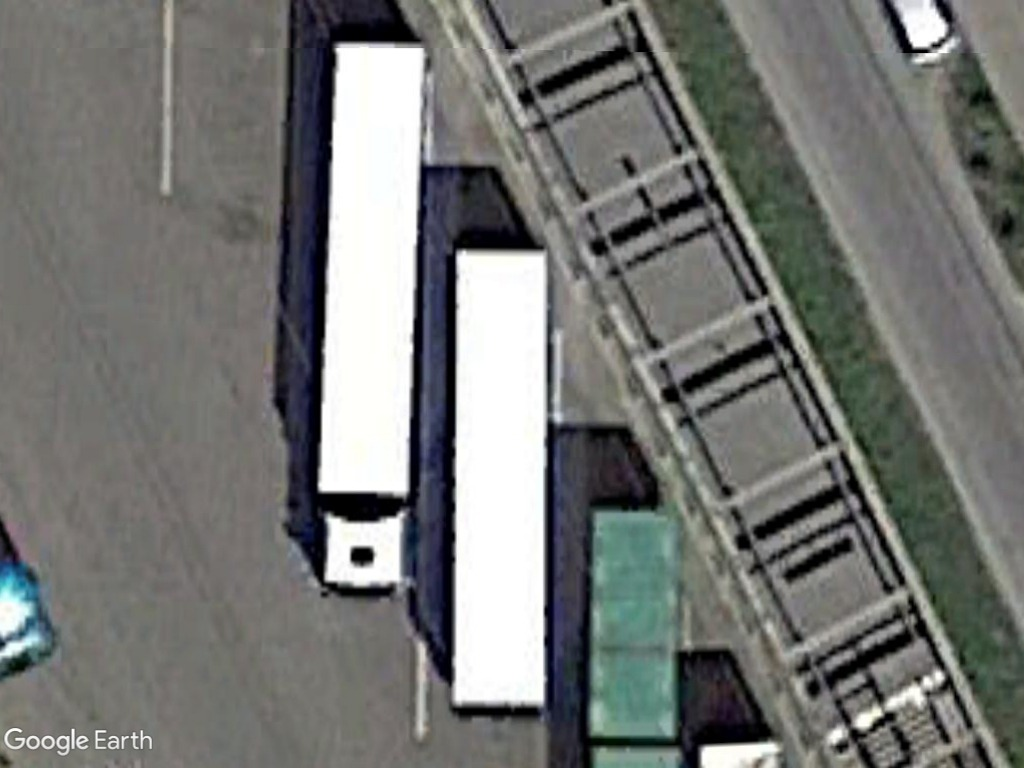longvehicle: (306, 30, 437, 605), (437, 238, 553, 723)
